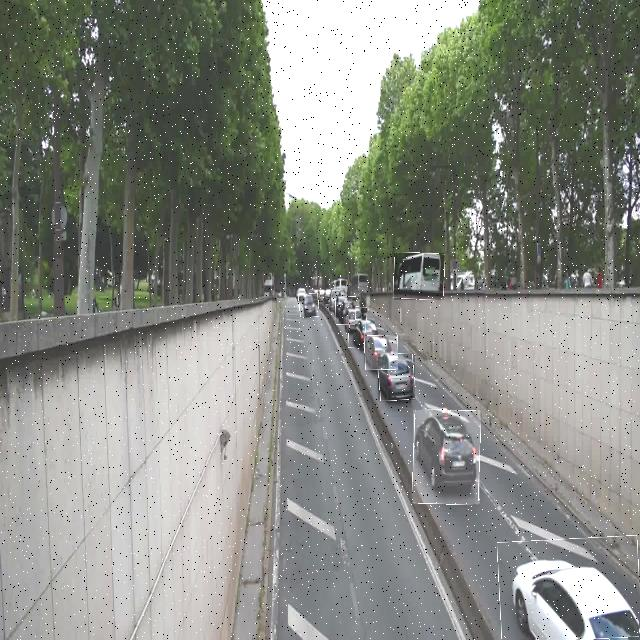Bus: (394, 253, 444, 300)
Car: (498, 537, 640, 640), (413, 410, 480, 504), (378, 354, 415, 400), (365, 336, 398, 370), (349, 307, 367, 348), (336, 296, 356, 325), (299, 294, 318, 317)
